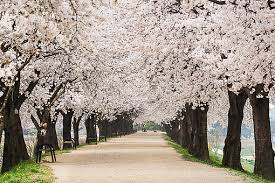flower: (4, 4, 275, 162)
forest: (2, 4, 275, 172)
tree: (1, 2, 273, 170)
